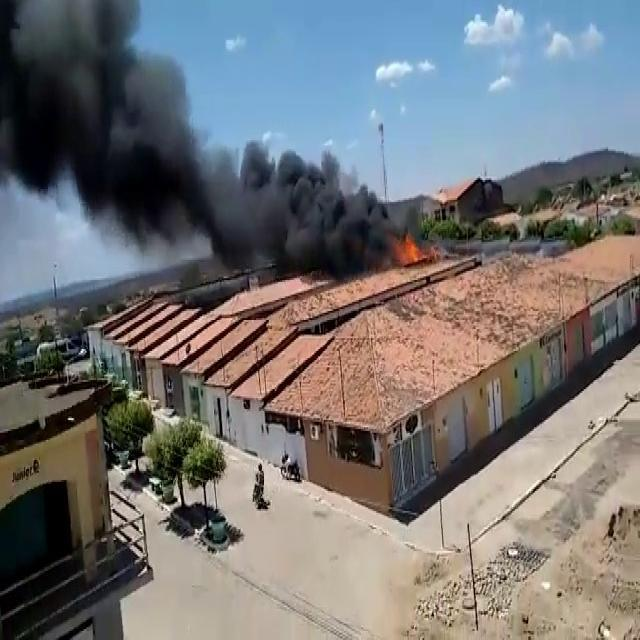Fire: (393, 206, 450, 270)
Smoke: (0, 6, 398, 270)
